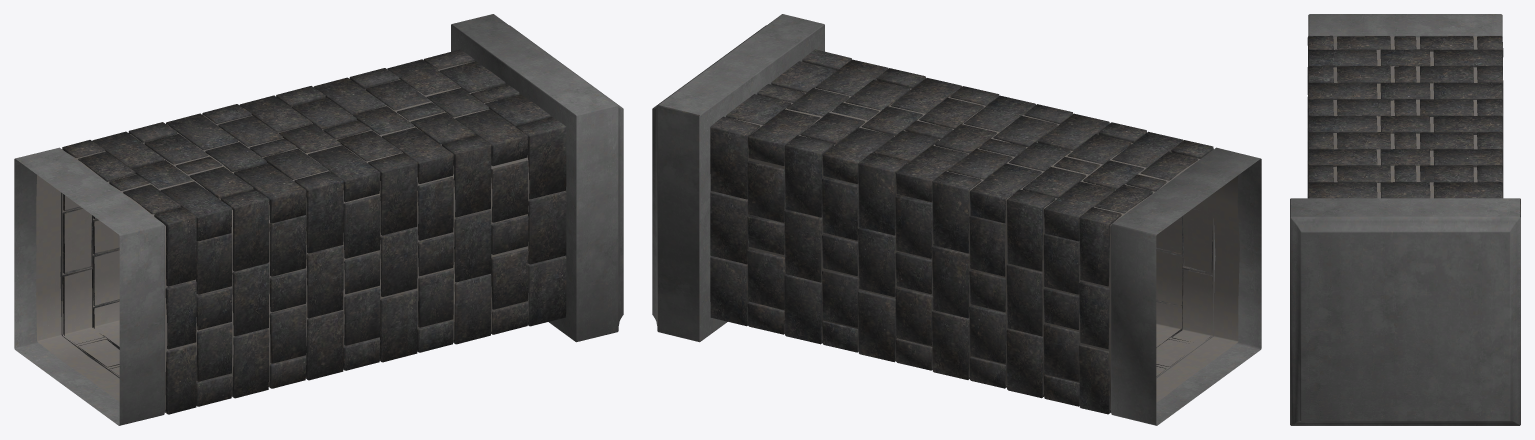
File: cP_CementFencePost.dae
3 renders of one model, left to right at view 1: azimuth 30°, elevation 25°; view 2: azimuth 150°, elevation 25°; view 3: azimuth 270°, elevation 25°, orthographic. The views are drawn at different scales.
Parts seen in each view (by area): view 1: cP_CementFencePost.001; view 2: cP_CementFencePost.001; view 3: cP_CementFencePost.001.
Part boxes in pixels (x1,y1,x2,y2): cP_CementFencePost.001: [14, 14, 623, 425]; cP_CementFencePost.001: [652, 14, 1261, 425]; cP_CementFencePost.001: [1290, 14, 1520, 425].
Size of the model in its own units: 2.86 by 1.24 by 1.24.
